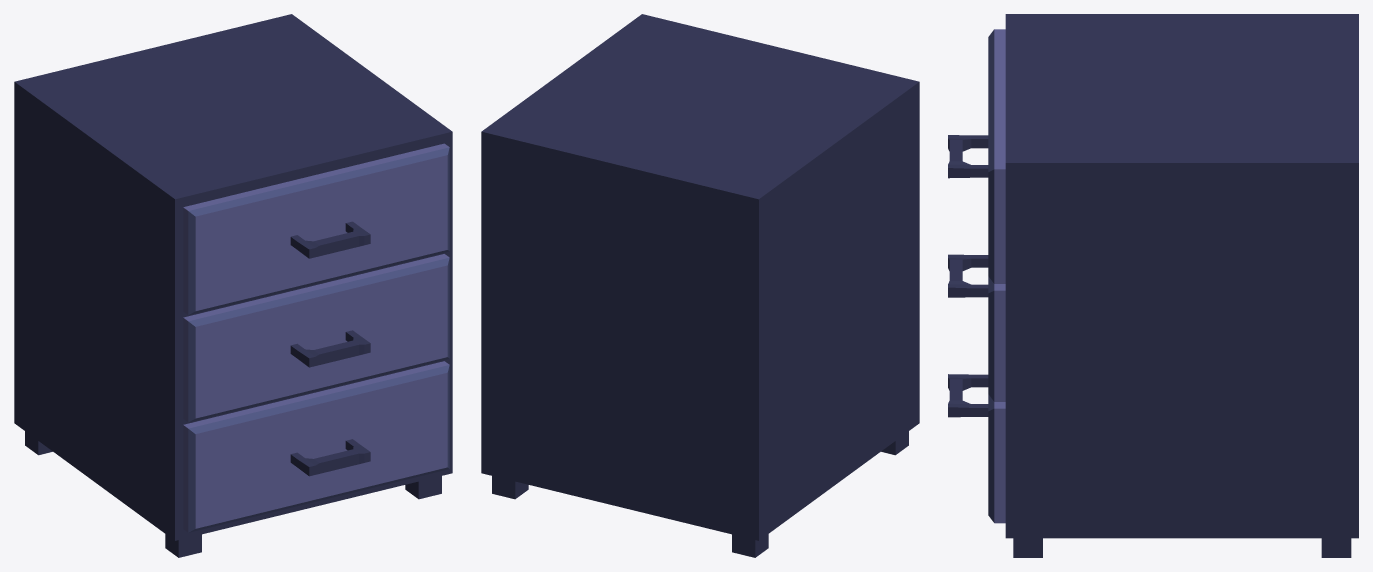
Rendered from Prop_Cabinet_02.fbx.
The picture shows the model from 3 angles, left to right: view 1: azimuth 30°, elevation 25°; view 2: azimuth 150°, elevation 25°; view 3: azimuth 270°, elevation 25°; orthographic projection. The views are drawn at different scales.
Parts seen in each view (by area): view 1: Prop_Cabinet_02; view 2: Prop_Cabinet_02; view 3: Prop_Cabinet_02.
Boxes of the visible parts, left/top/right/bottom form: Prop_Cabinet_02: left=14, top=14, right=452, bottom=557; Prop_Cabinet_02: left=481, top=14, right=919, bottom=557; Prop_Cabinet_02: left=948, top=14, right=1358, bottom=557.
Bounding box in the file's own units: 60 × 75 × 70.
